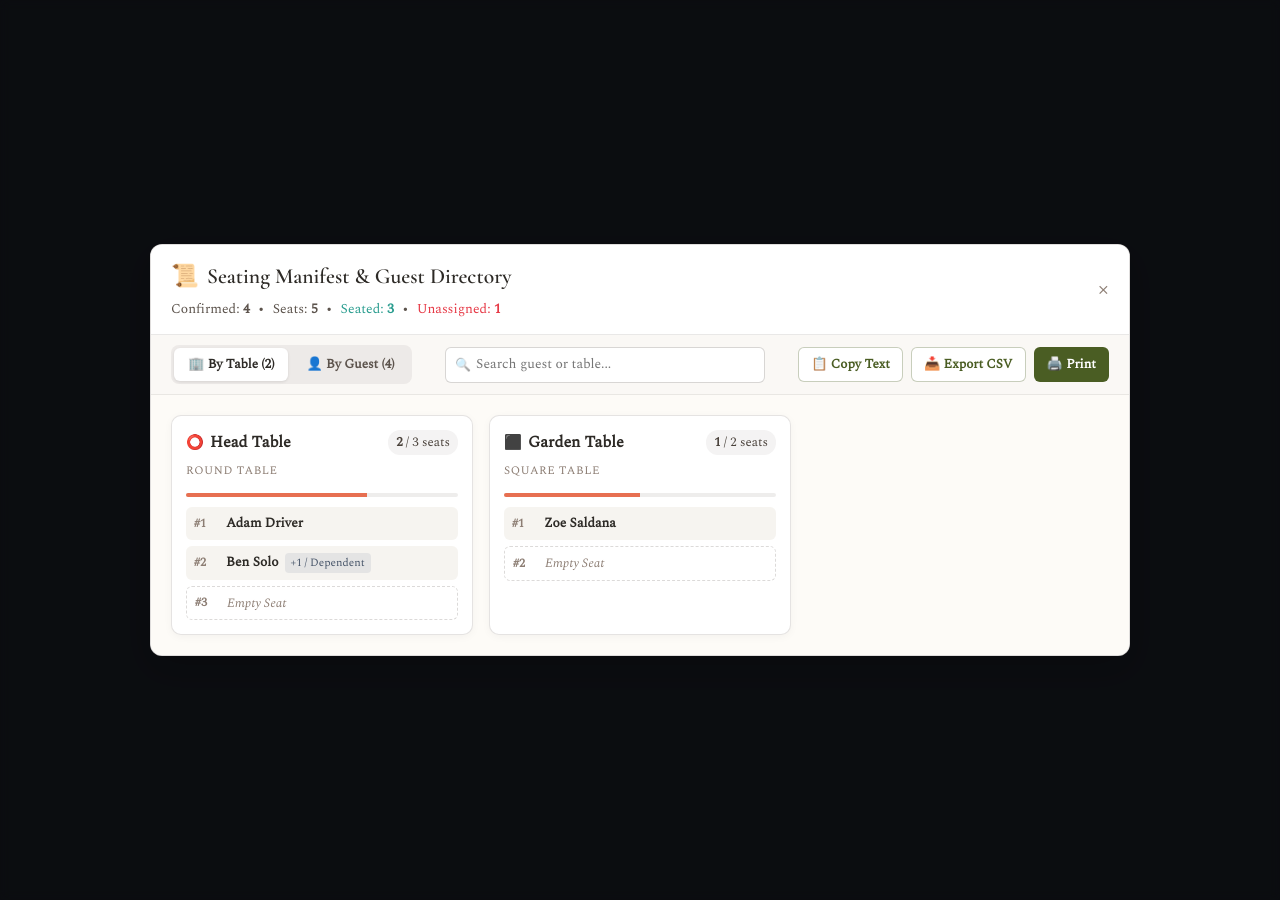
Scenario: SeatingManifestModal › switches between "By Table" and "By Guest" tabs
Note: Click By Guest tab
Click the tab with test id "tab-by-guest". click: coordinates (351, 365)
box: [292,348,409,381]
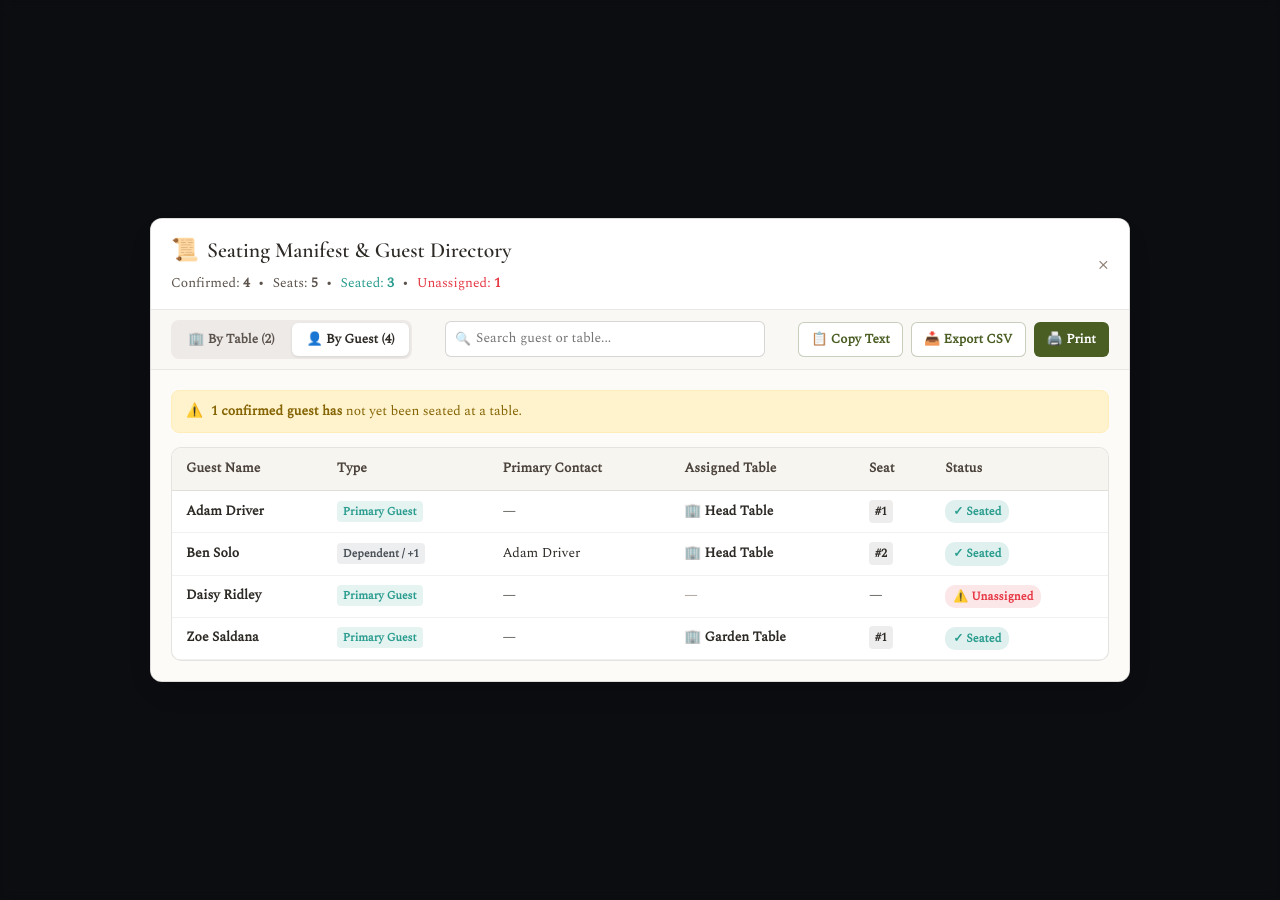
Check: the element with test id "manifest-guests-view" is shown, box [171,390,1109,661]
Check: the text "Daisy Ridley" is shown, box [186,585,261,605]
Check: the text "⚠️ Unassigned" is shown, box [945,584,1041,608]
Note: Click back to By Table tab
Click the tab with test id "tab-by-table". click: coordinates (231, 339)
box: [174,323,288,356]
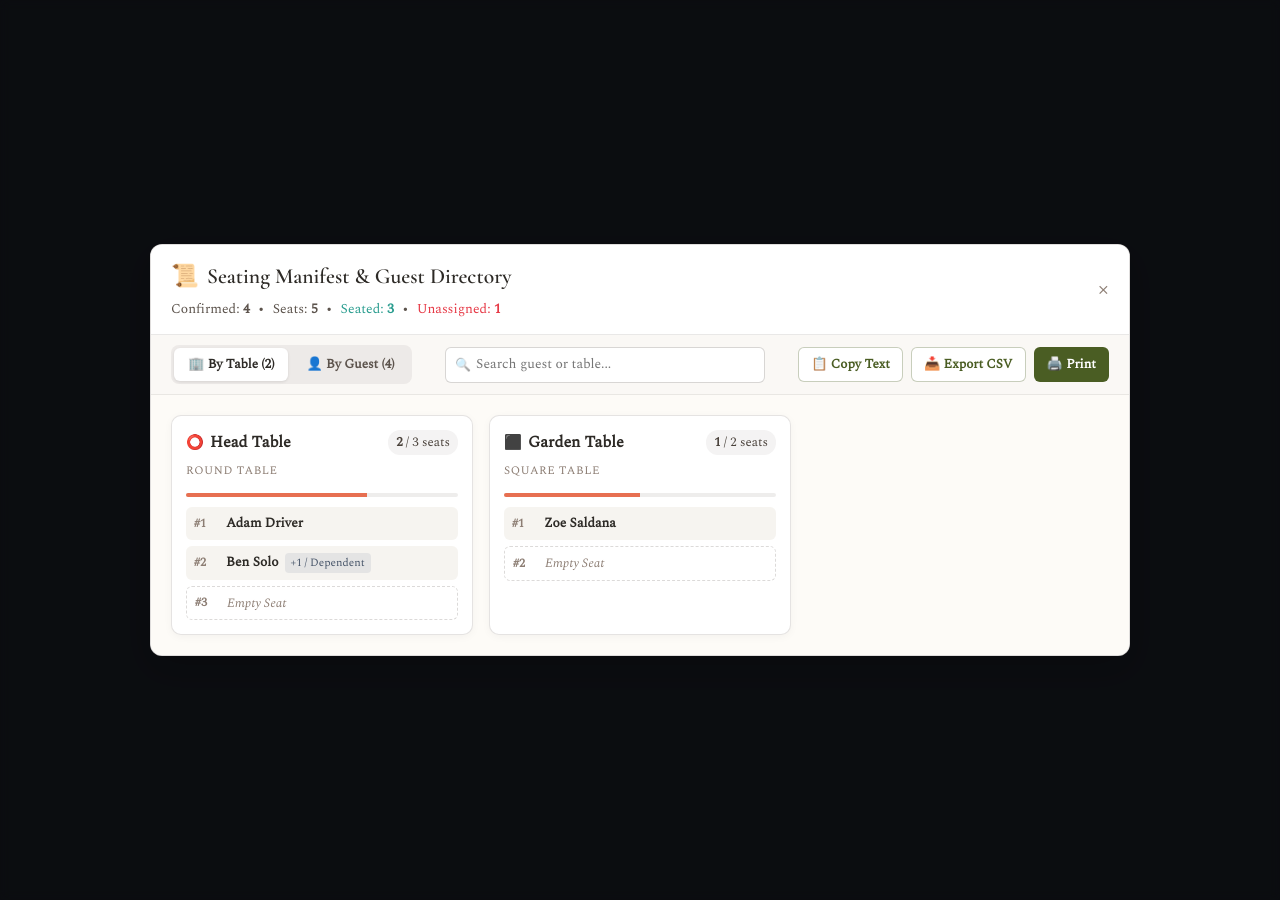
Check: the element with test id "manifest-tables-view" is shown, box [171,415,791,635]
